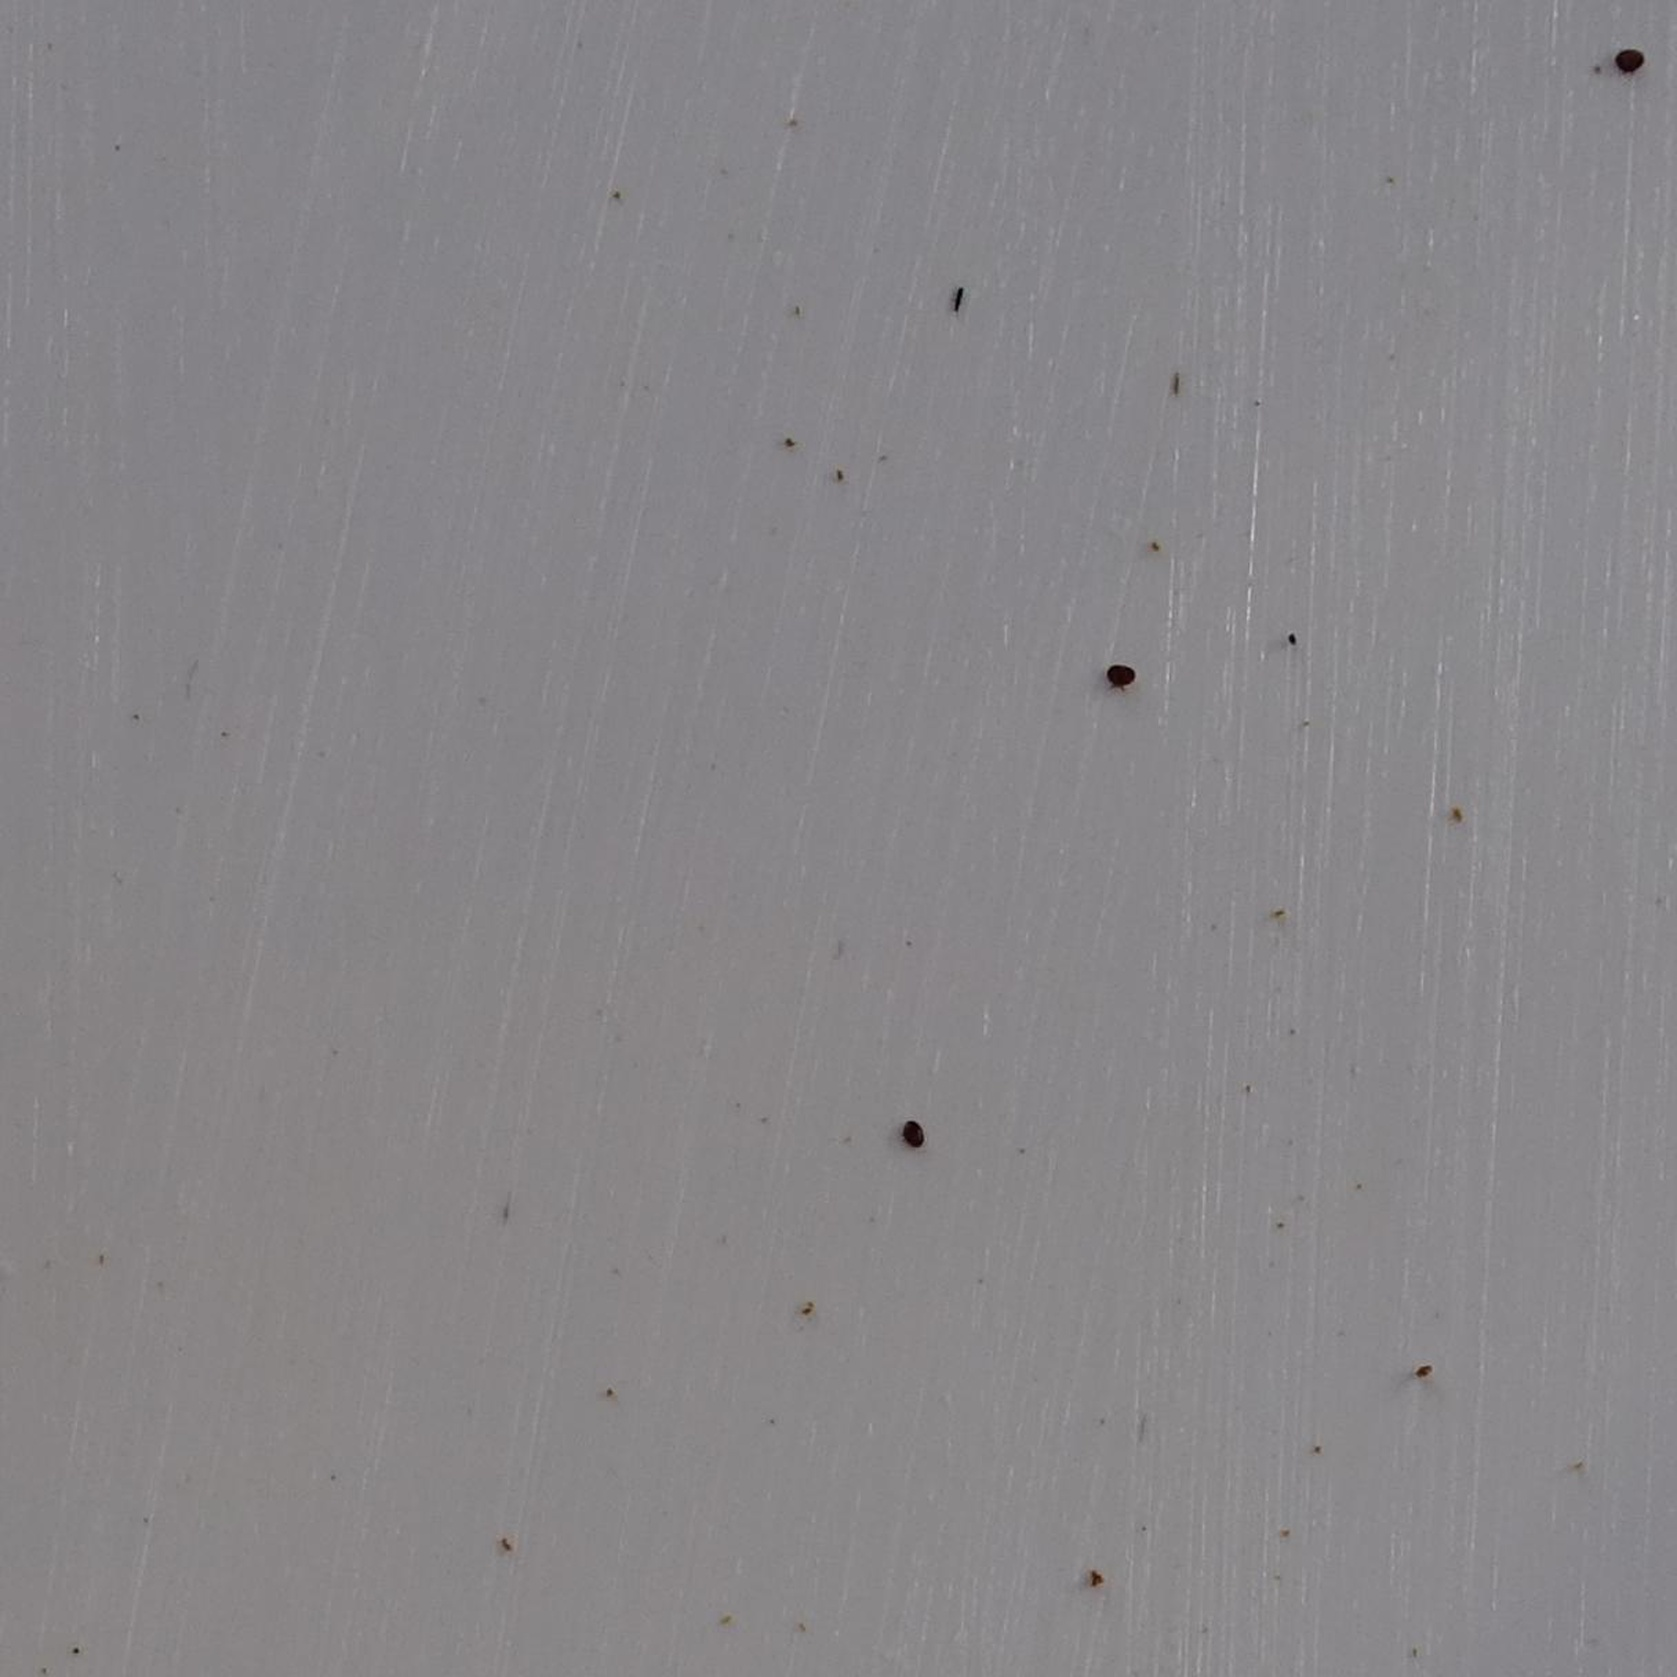Varroa: (1110, 656, 1135, 682), (1617, 45, 1642, 69), (903, 1118, 928, 1143)
